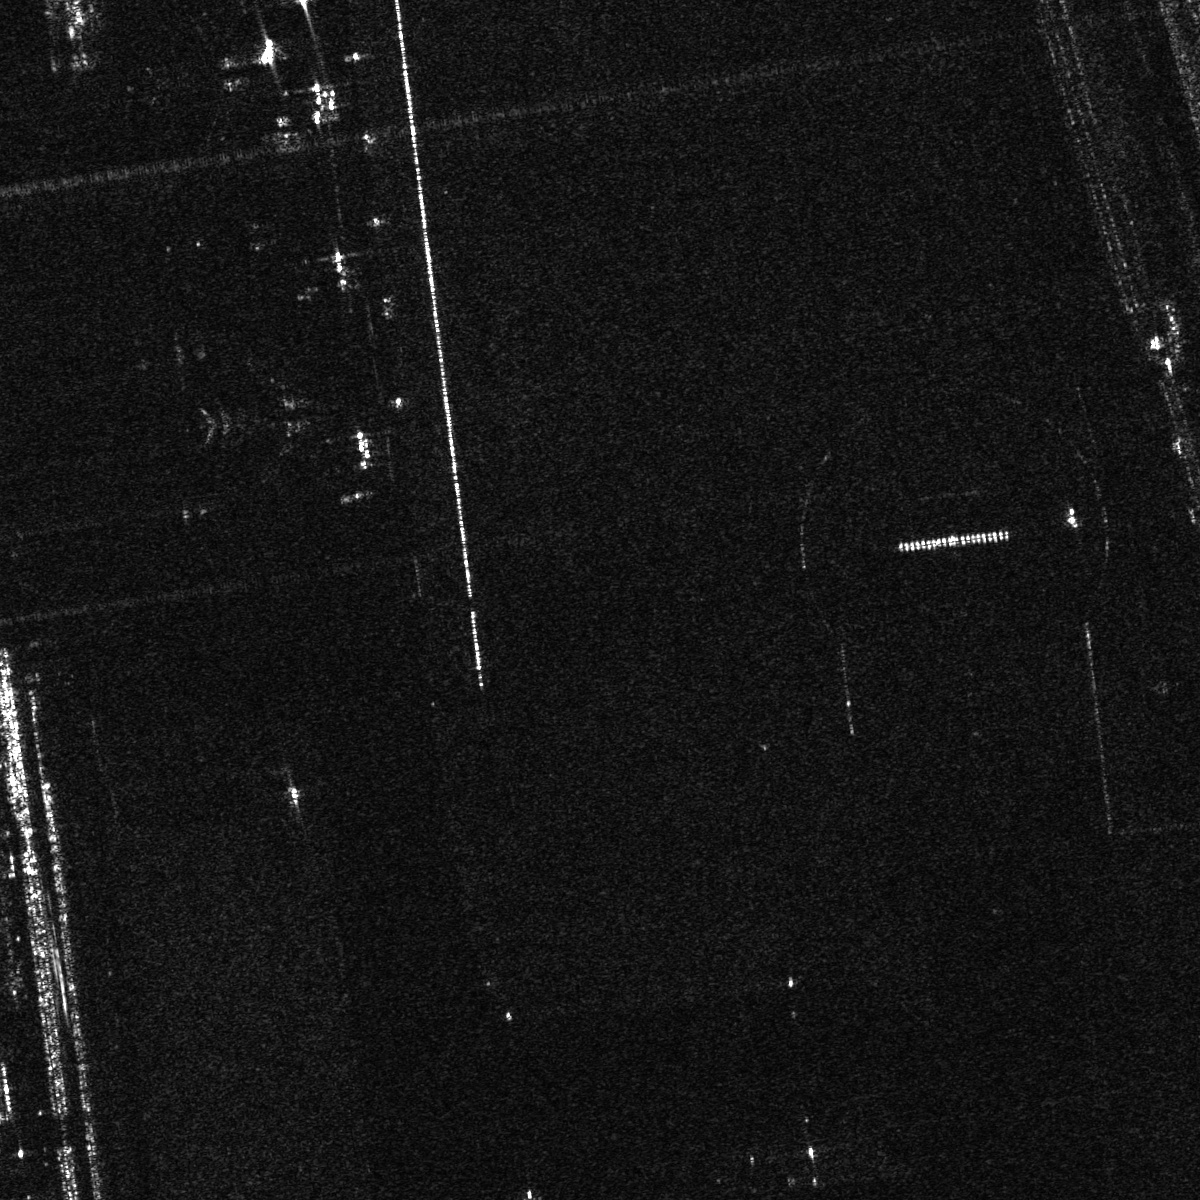A330: (145, 13, 258, 142)
Boeing787: (199, 353, 338, 482)
